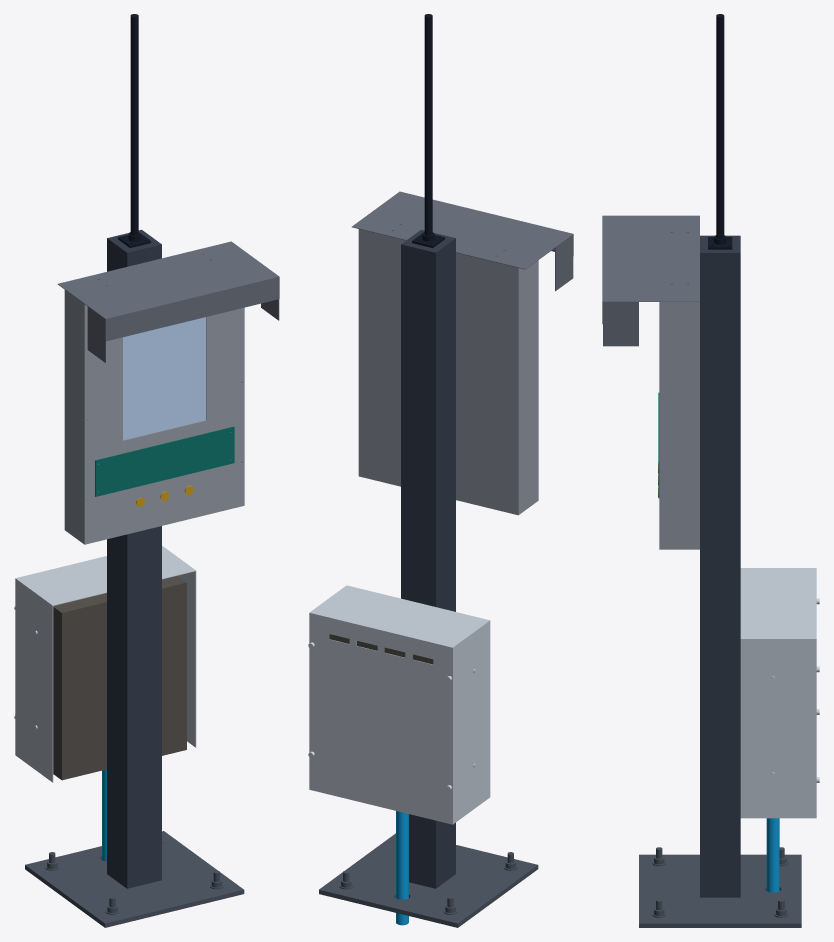
3 views of the same model, side by side, from view 1: azimuth 30°, elevation 25°; view 2: azimuth 150°, elevation 25°; view 3: azimuth 270°, elevation 25° (orthographic).
Visible parts, largest first — view 1: Display head enclosure, Post, 100 mm square steel, Services cabinet, lockable, Sun and rain hood with light, Cabinet sun shield (outdoor sites), Base plate and anchors, Front window, polycarbonate, Data notice plate, LoRaWAN antenna and bracket; view 2: Cabinet sun shield (outdoor sites), Display head enclosure, Post, 100 mm square steel, Base plate and anchors, Sun and rain hood with light, LoRaWAN antenna and bracket, Conduit and cabling; view 3: Post, 100 mm square steel, Cabinet sun shield (outdoor sites), Display head enclosure, Sun and rain hood with light, Base plate and anchors, LoRaWAN antenna and bracket, Conduit and cabling.
Part boxes in pixels (x1,y1,x2,y2): Display head enclosure: (64, 254, 244, 544); Post, 100 mm square steel: (107, 229, 161, 888); Services cabinet, lockable: (53, 575, 186, 780); Sun and rain hood with light: (57, 241, 279, 362); Cabinet sun shield (outdoor sites): (14, 546, 196, 782); Base plate and anchors: (25, 831, 244, 927); Front window, polycarbonate: (123, 317, 205, 440); Data notice plate: (95, 426, 234, 496); LoRaWAN antenna and bracket: (118, 14, 150, 247); Cabinet sun shield (outdoor sites): (308, 585, 490, 824); Display head enclosure: (358, 225, 538, 515); Post, 100 mm square steel: (401, 229, 455, 888); Base plate and anchors: (319, 833, 538, 927); Sun and rain hood with light: (352, 191, 573, 291); LoRaWAN antenna and bracket: (412, 14, 444, 247); Conduit and cabling: (396, 811, 408, 925); Post, 100 mm square steel: (700, 235, 740, 897); Cabinet sun shield (outdoor sites): (740, 568, 819, 818); Display head enclosure: (659, 233, 699, 549); Sun and rain hood with light: (602, 215, 699, 346); Base plate and anchors: (639, 847, 801, 927); LoRaWAN antenna and bracket: (708, 14, 732, 249); Conduit and cabling: (766, 818, 779, 892).
Size of the model in its own units: 0.5 by 2.44 by 0.5345.
